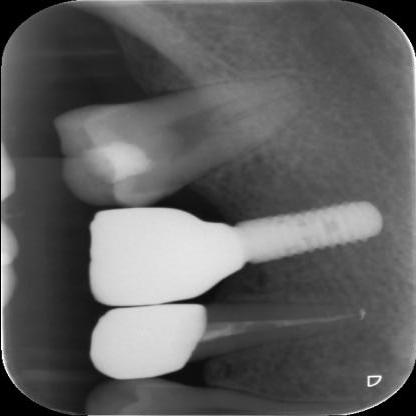ITI: (229, 194, 393, 274)
